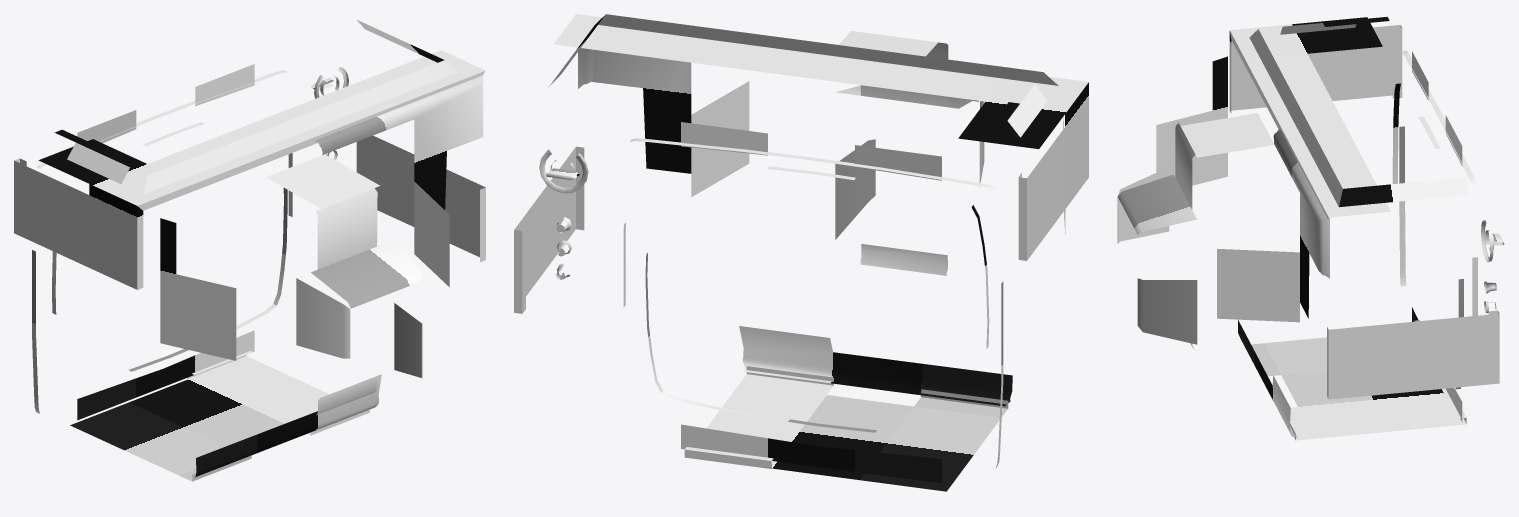
3 views of the same model, side by side, from view 1: azimuth 30°, elevation 25°; view 2: azimuth 150°, elevation 25°; view 3: azimuth 270°, elevation 25° (orthographic). The views are drawn at different scales.
Visible parts, largest first — view 1: TV; view 2: TV; view 3: TV.
Part boxes in pixels (box(x1,y1,x2,y2)): TV: box(14, 20, 485, 481); TV: box(514, 14, 1088, 491); TV: box(1117, 16, 1504, 440).
Bounding box in the file's own units: 0.3589 × 0.2451 × 0.2883.
